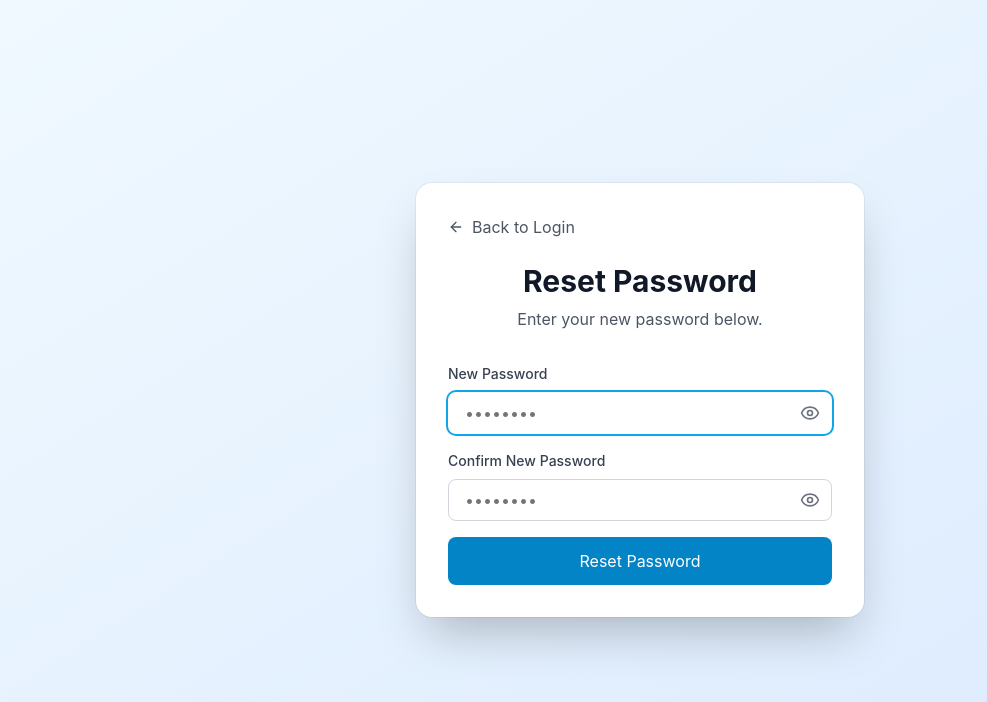
Scenario: ResetPasswordPage › should show error when passwords do not match
The width and height of the screenshot is (987, 702).
Type "password123" into the password field with placeholder "••••••••" at (640, 413), box left=448, top=392, right=832, bottom=434
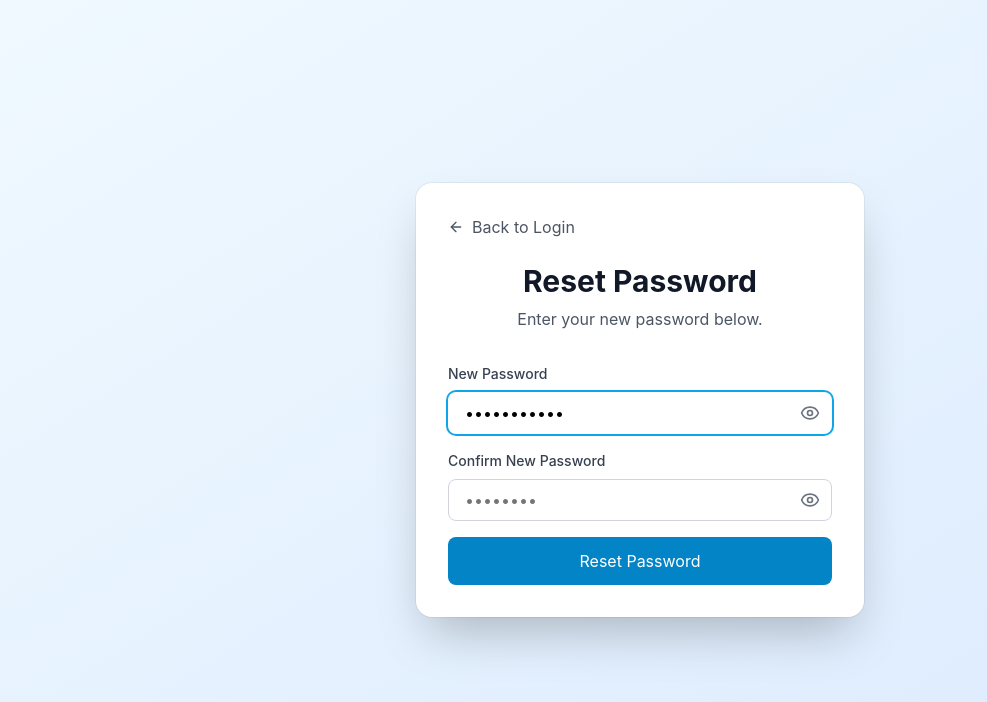
Type "different" into the password field with placeholder "••••••••" at (640, 500), box left=448, top=479, right=832, bottom=521
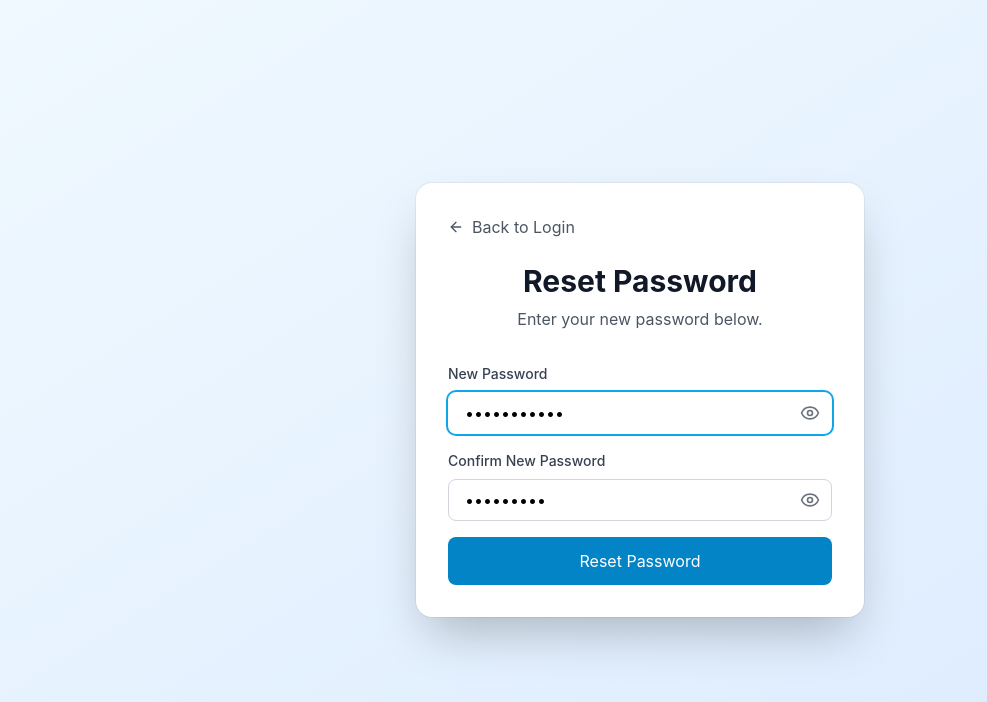
Click the button "Reset Password" at (640, 561), box left=448, top=537, right=832, bottom=585
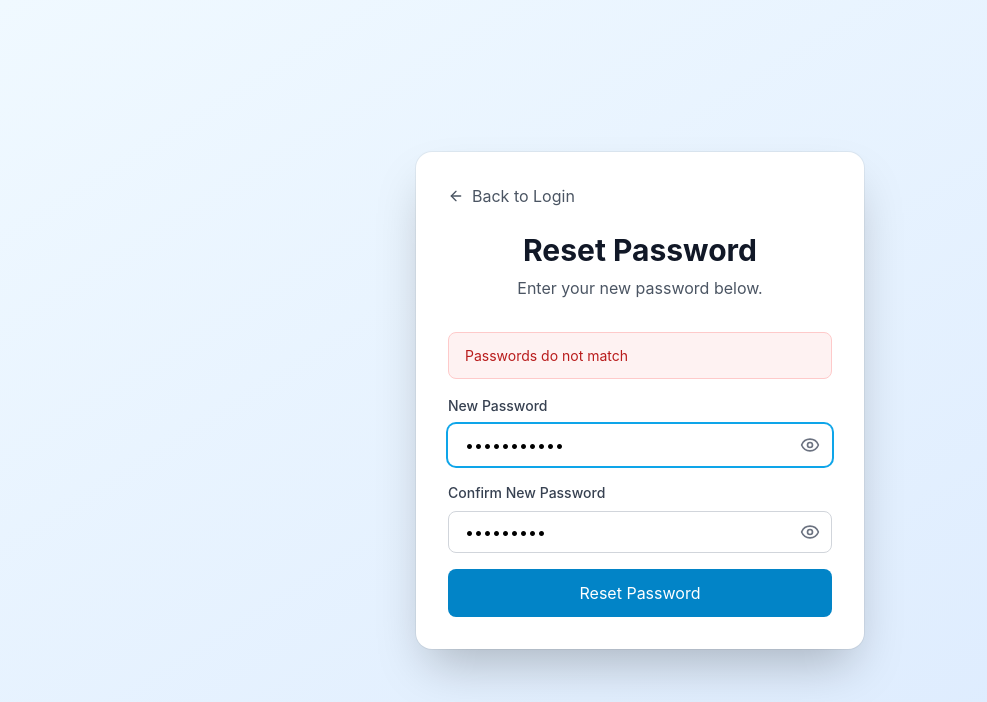
Now the text "Passwords do not match" is shown, box left=448, top=332, right=832, bottom=378
